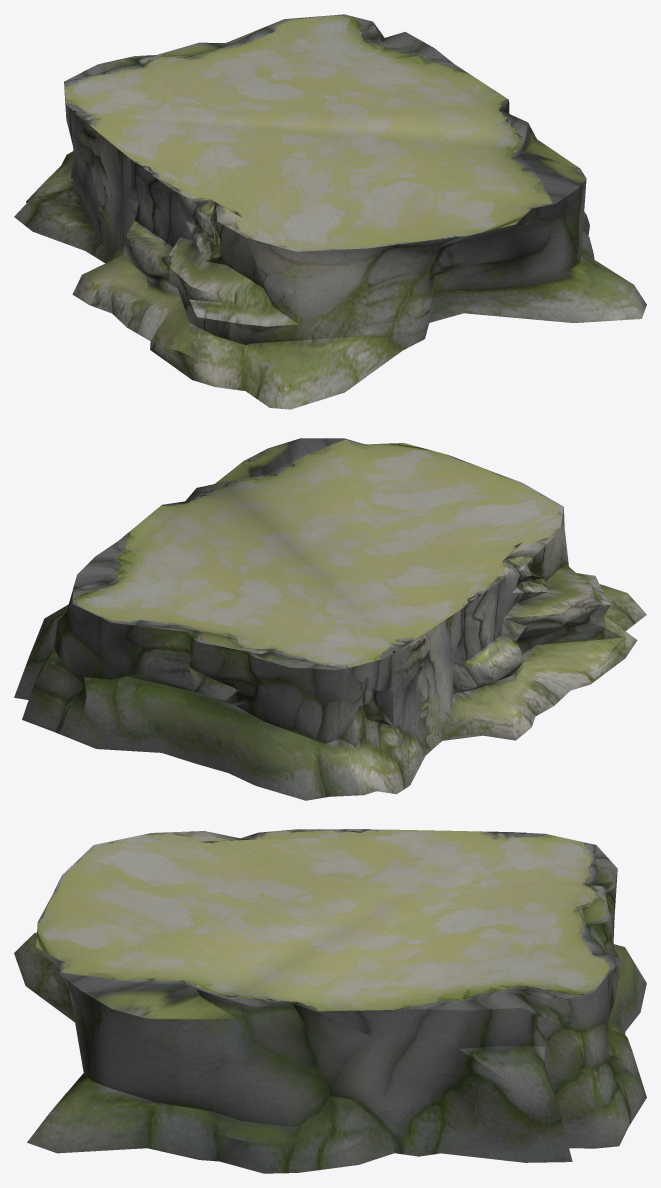
File: CourtPlateau_LOD2.fbx
3 views of the same model, one above another, from view 1: azimuth 30°, elevation 25°; view 2: azimuth 150°, elevation 25°; view 3: azimuth 270°, elevation 25° (orthographic). The views are drawn at different scales.
Parts seen in each view (by area): view 1: CourtPlateau_LOD2; view 2: CourtPlateau_LOD2; view 3: CourtPlateau_LOD2.
Part boxes in pixels (box(x1,y1,x2,y2)): CourtPlateau_LOD2: box(14, 14, 646, 409); CourtPlateau_LOD2: box(14, 438, 646, 800); CourtPlateau_LOD2: box(14, 829, 646, 1173).
Size of the model in its own units: 59.15 by 15.05 by 65.14.
1 material, 1 textured.
